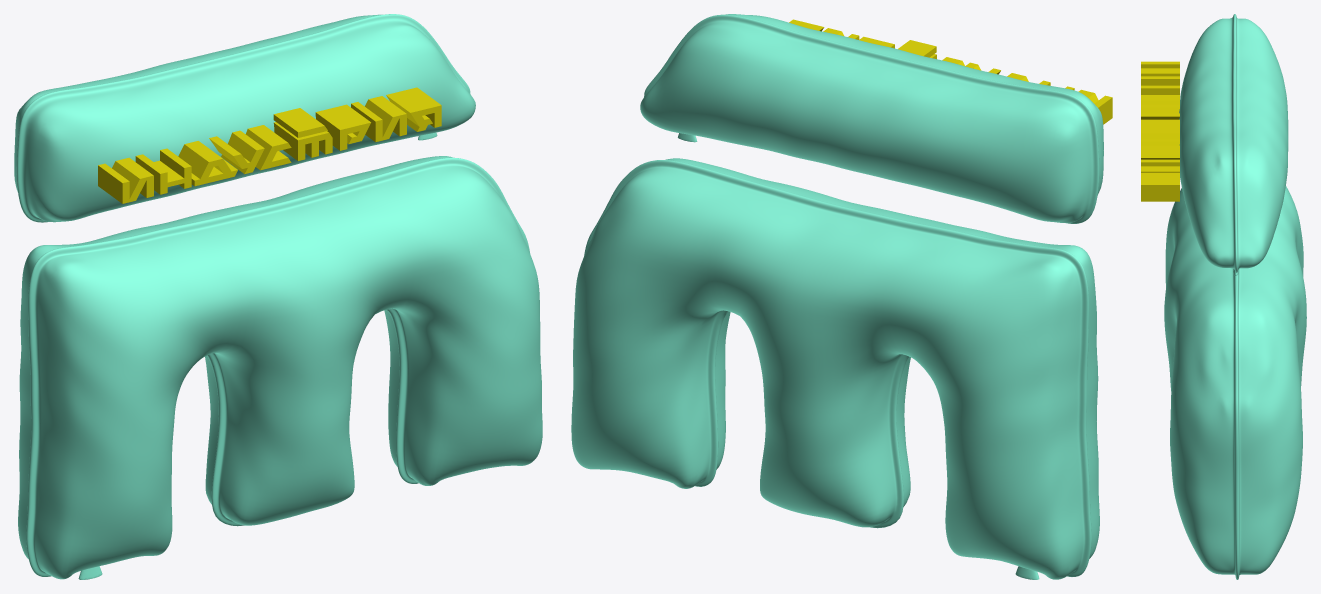
Rendered from выдавлено2.glb.
3 renders of one model, left to right at view 1: azimuth 30°, elevation 25°; view 2: azimuth 150°, elevation 25°; view 3: azimuth 270°, elevation 25°, orthographic. The views are drawn at different scales.
Visible parts, largest first — view 1: Inflatable_letter.001, Curve; view 2: Inflatable_letter.001, Curve; view 3: Inflatable_letter.001, Curve.
Boxes of the visible parts, x1,y1,x2,y2 form: Inflatable_letter.001: (14,14,542,579); Curve: (98,87,441,203); Inflatable_letter.001: (571,14,1103,579); Curve: (789,19,1112,124); Inflatable_letter.001: (1164,14,1306,579); Curve: (1141,61,1179,201).
Size of the model in its own units: 207 by 188 by 72.16.
